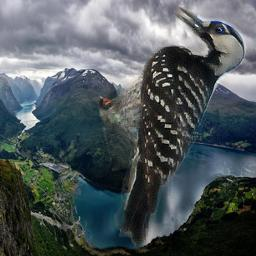Woodpecker: (99, 7, 248, 249)
